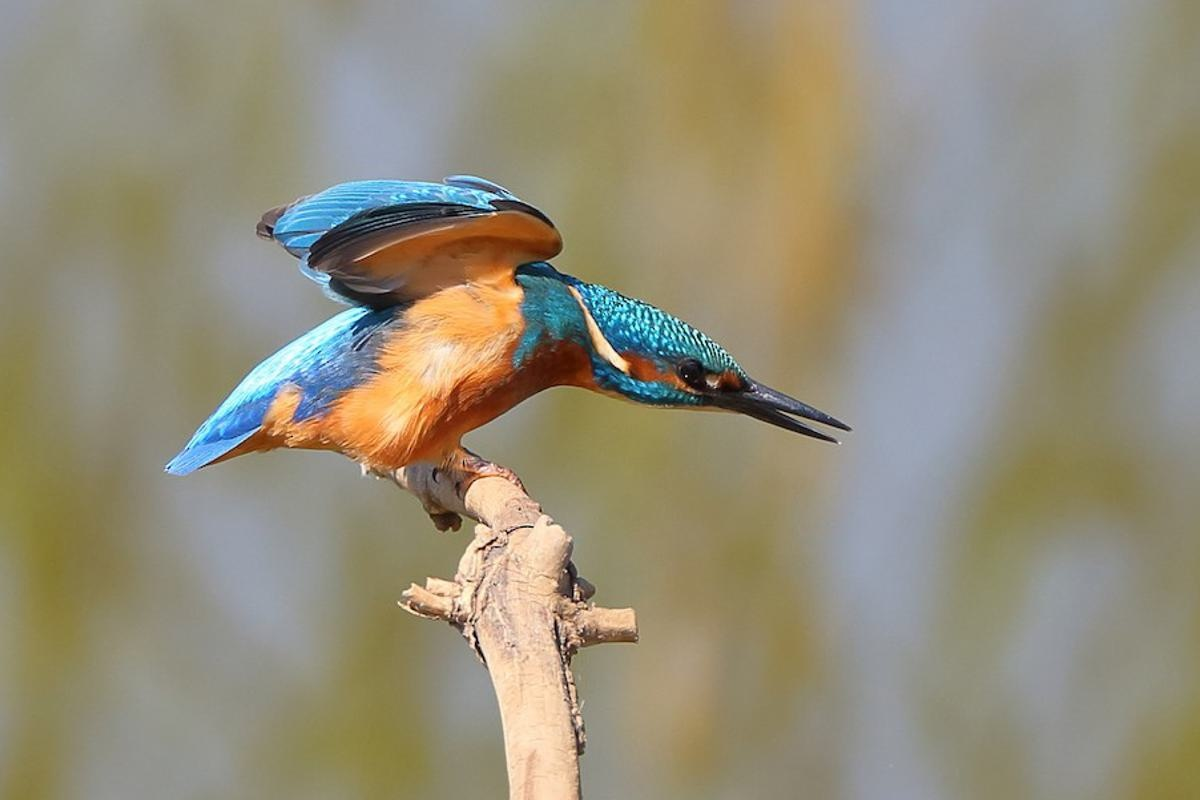kingfisher: (161, 160, 874, 502)
